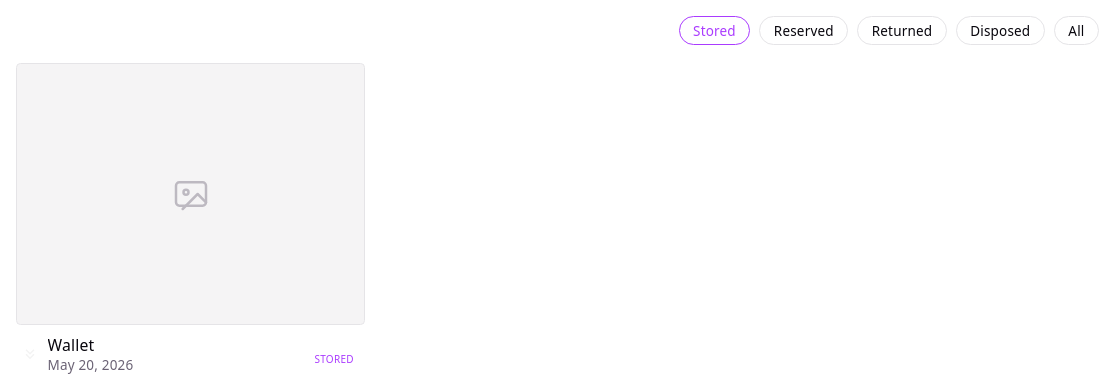
<FoundItemsOverview /> › switches the listing when a different status filter is selected
The image size is (1116, 391).
expect the text "Wallet" is shown: met, box x1=48 y1=334 x2=94 y2=356
Click the tab "Returned".
click(902, 30)  # box x1=857 y1=16 x2=947 y2=45
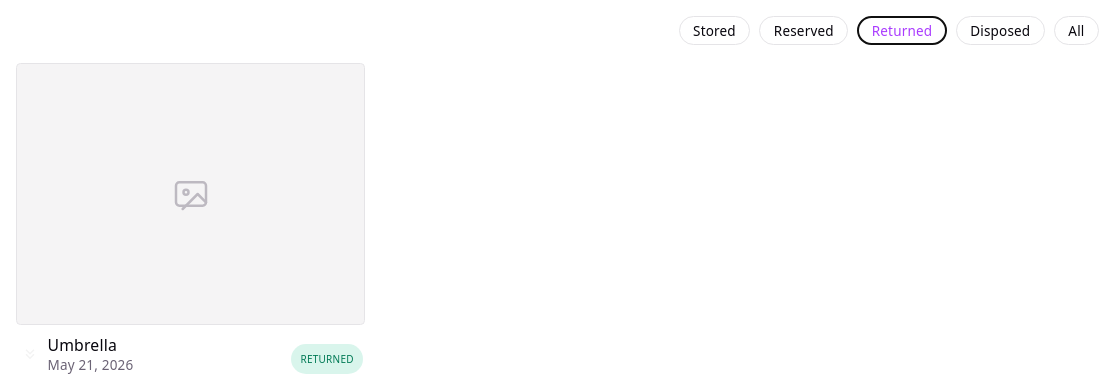
expect the text "Umbrella" is shown: met, box x1=48 y1=334 x2=117 y2=356
expect the text "Wallet" is gone: met
